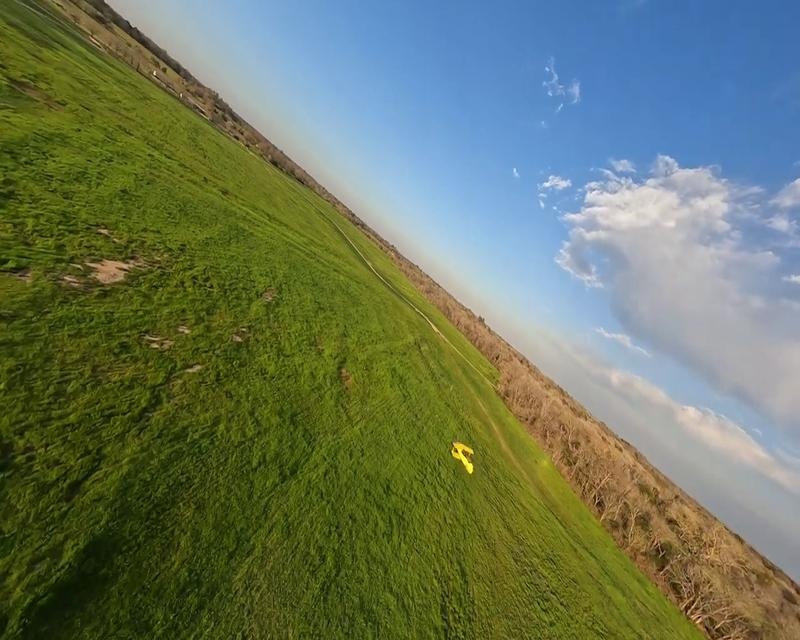UAV: (450, 441, 474, 473)
